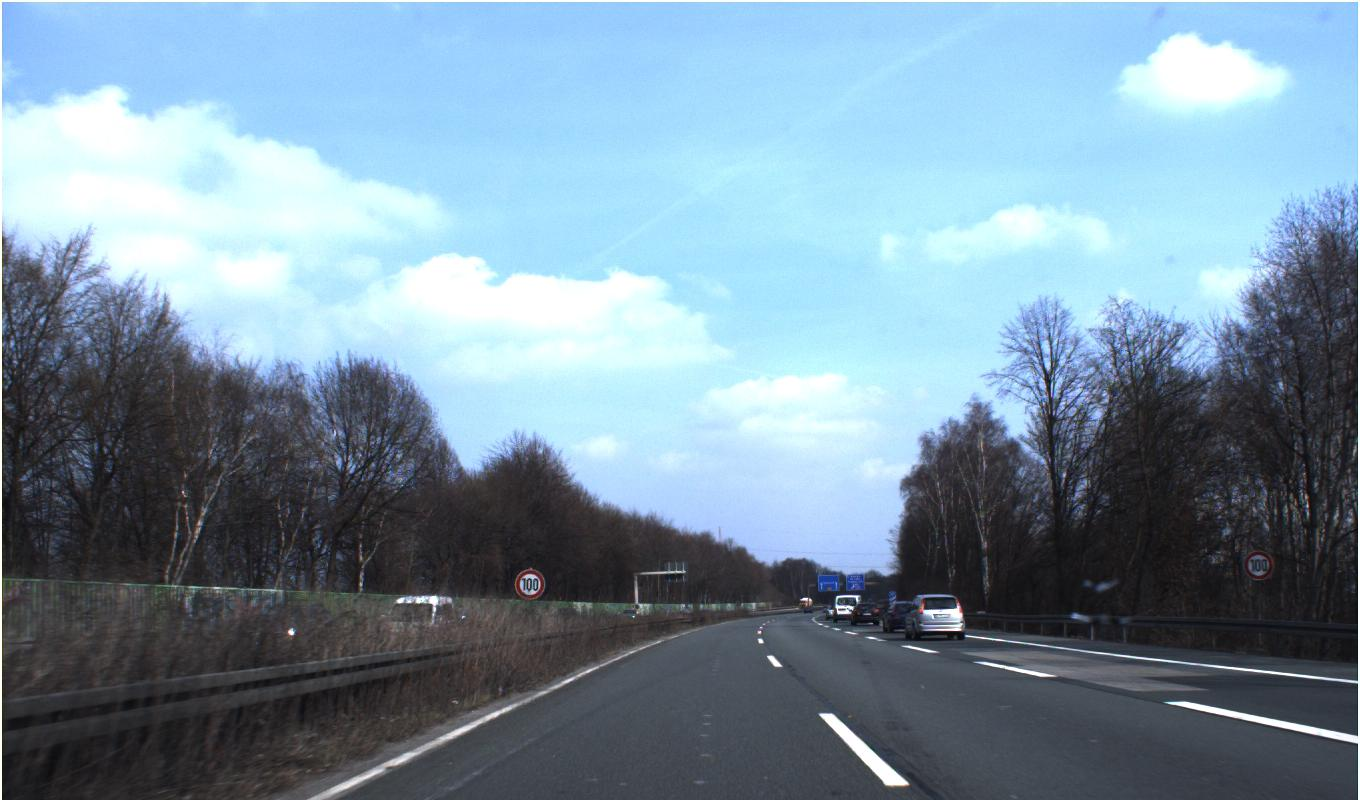prohibitory: (1242, 549, 1274, 581), (514, 569, 545, 600)
